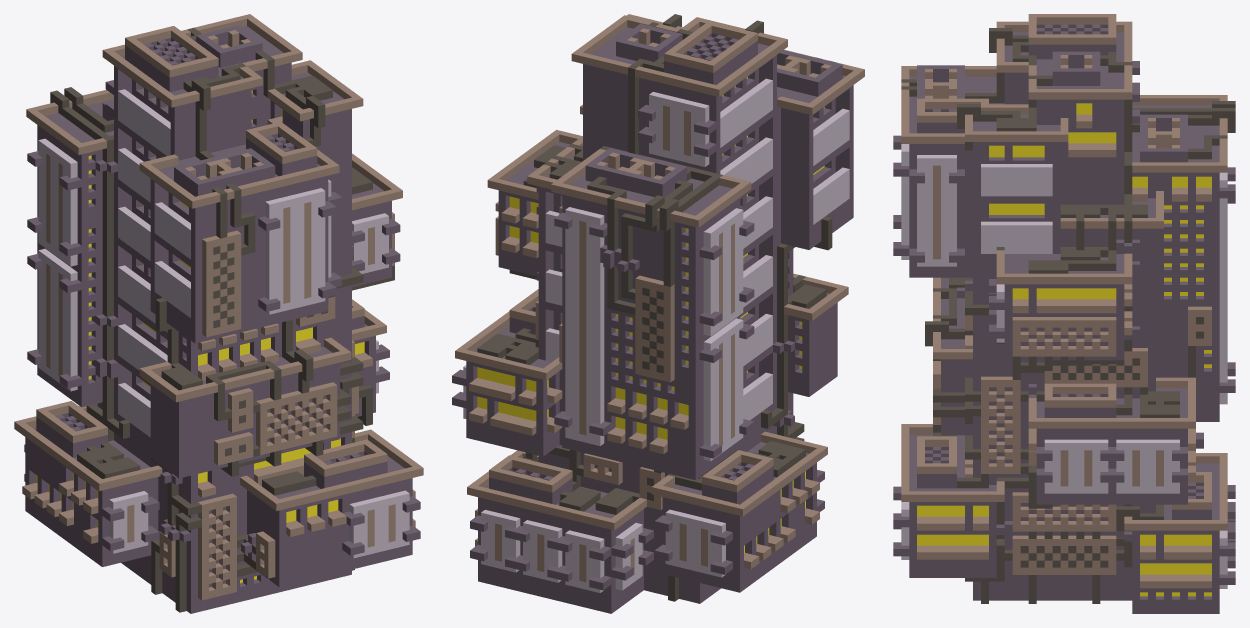
File: CarmaTower_2.obj
The picture shows the model from 3 angles, left to right: view 1: azimuth 30°, elevation 25°; view 2: azimuth 150°, elevation 25°; view 3: azimuth 270°, elevation 25°; orthographic projection.
Size of the model in its own units: 4.2 by 7.1 by 4.3.
Materials: 1 (1 with a texture image).
